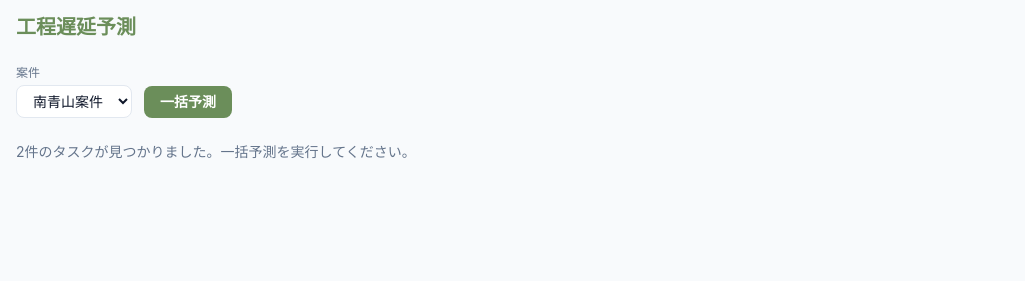
DelayPredictionPage — 予測実行 › 一括予測ボタンクリック後にテーブルが表示される
Click the button with test id "predict-btn": (188, 102) [144,86,232,118]
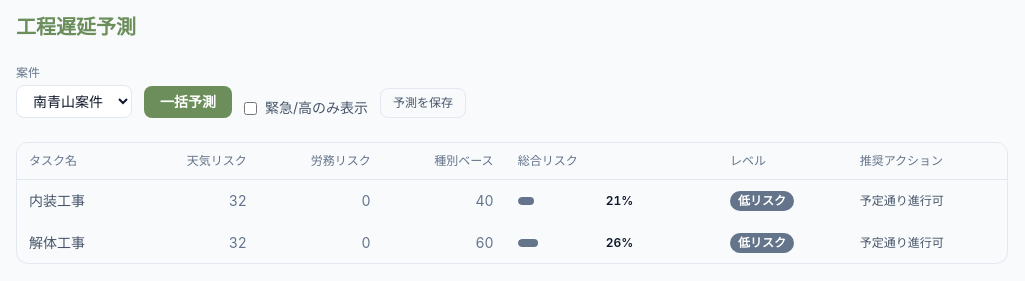
Result: the table with test id "prediction-table" is shown at [17,143,1007,263]
